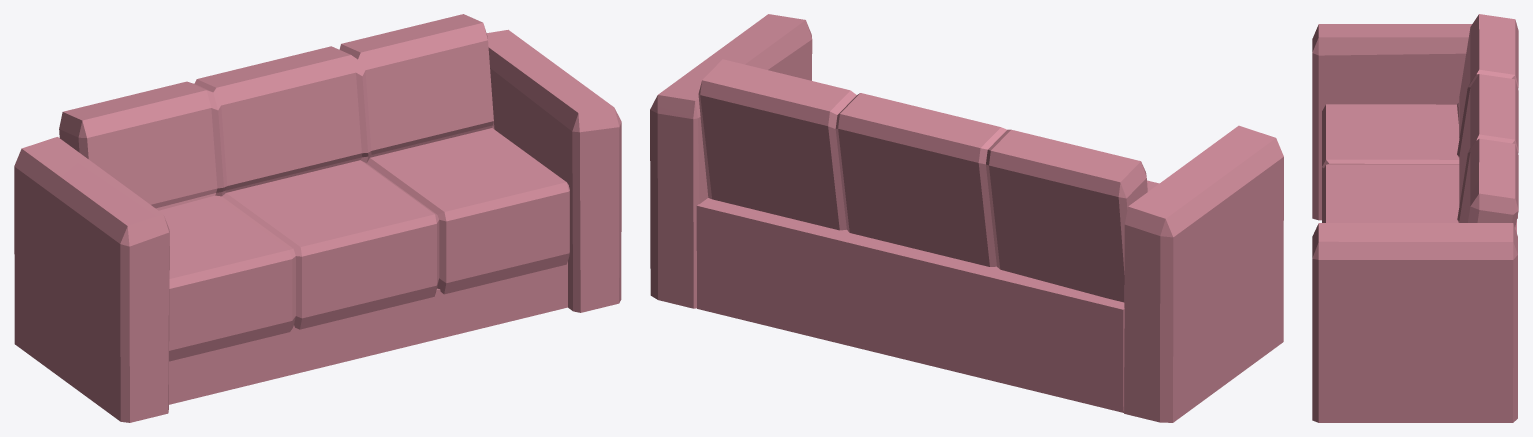
File: Chair_Couch_1_231109.glb
3 views of the same model, side by side, from view 1: azimuth 30°, elevation 25°; view 2: azimuth 150°, elevation 25°; view 3: azimuth 270°, elevation 25° (orthographic). The views are drawn at different scales.
Parts seen in each view (by area): view 1: Couch_1; view 2: Couch_1; view 3: Couch_1.
Part boxes in pixels (bbox=[...]): Couch_1: bbox=[14, 14, 621, 422]; Couch_1: bbox=[650, 14, 1283, 422]; Couch_1: bbox=[1312, 14, 1518, 422].
Size of the model in its own units: 3.16 by 1.36 by 1.23.
Materials: 1 (1 with a texture image).
